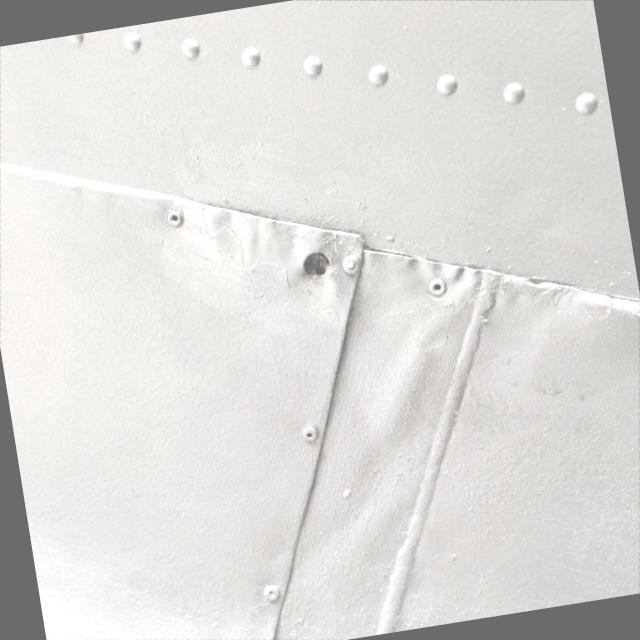Missing Fastener: (302, 249, 334, 278)
